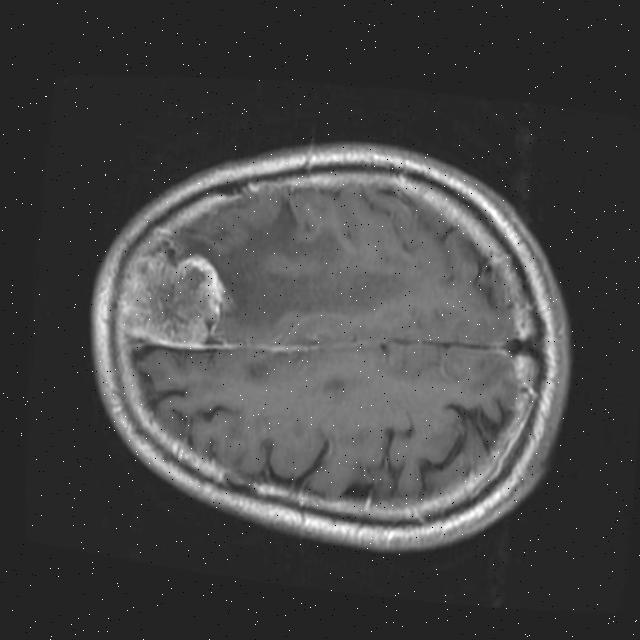Meningioma: (121, 244, 231, 352)
